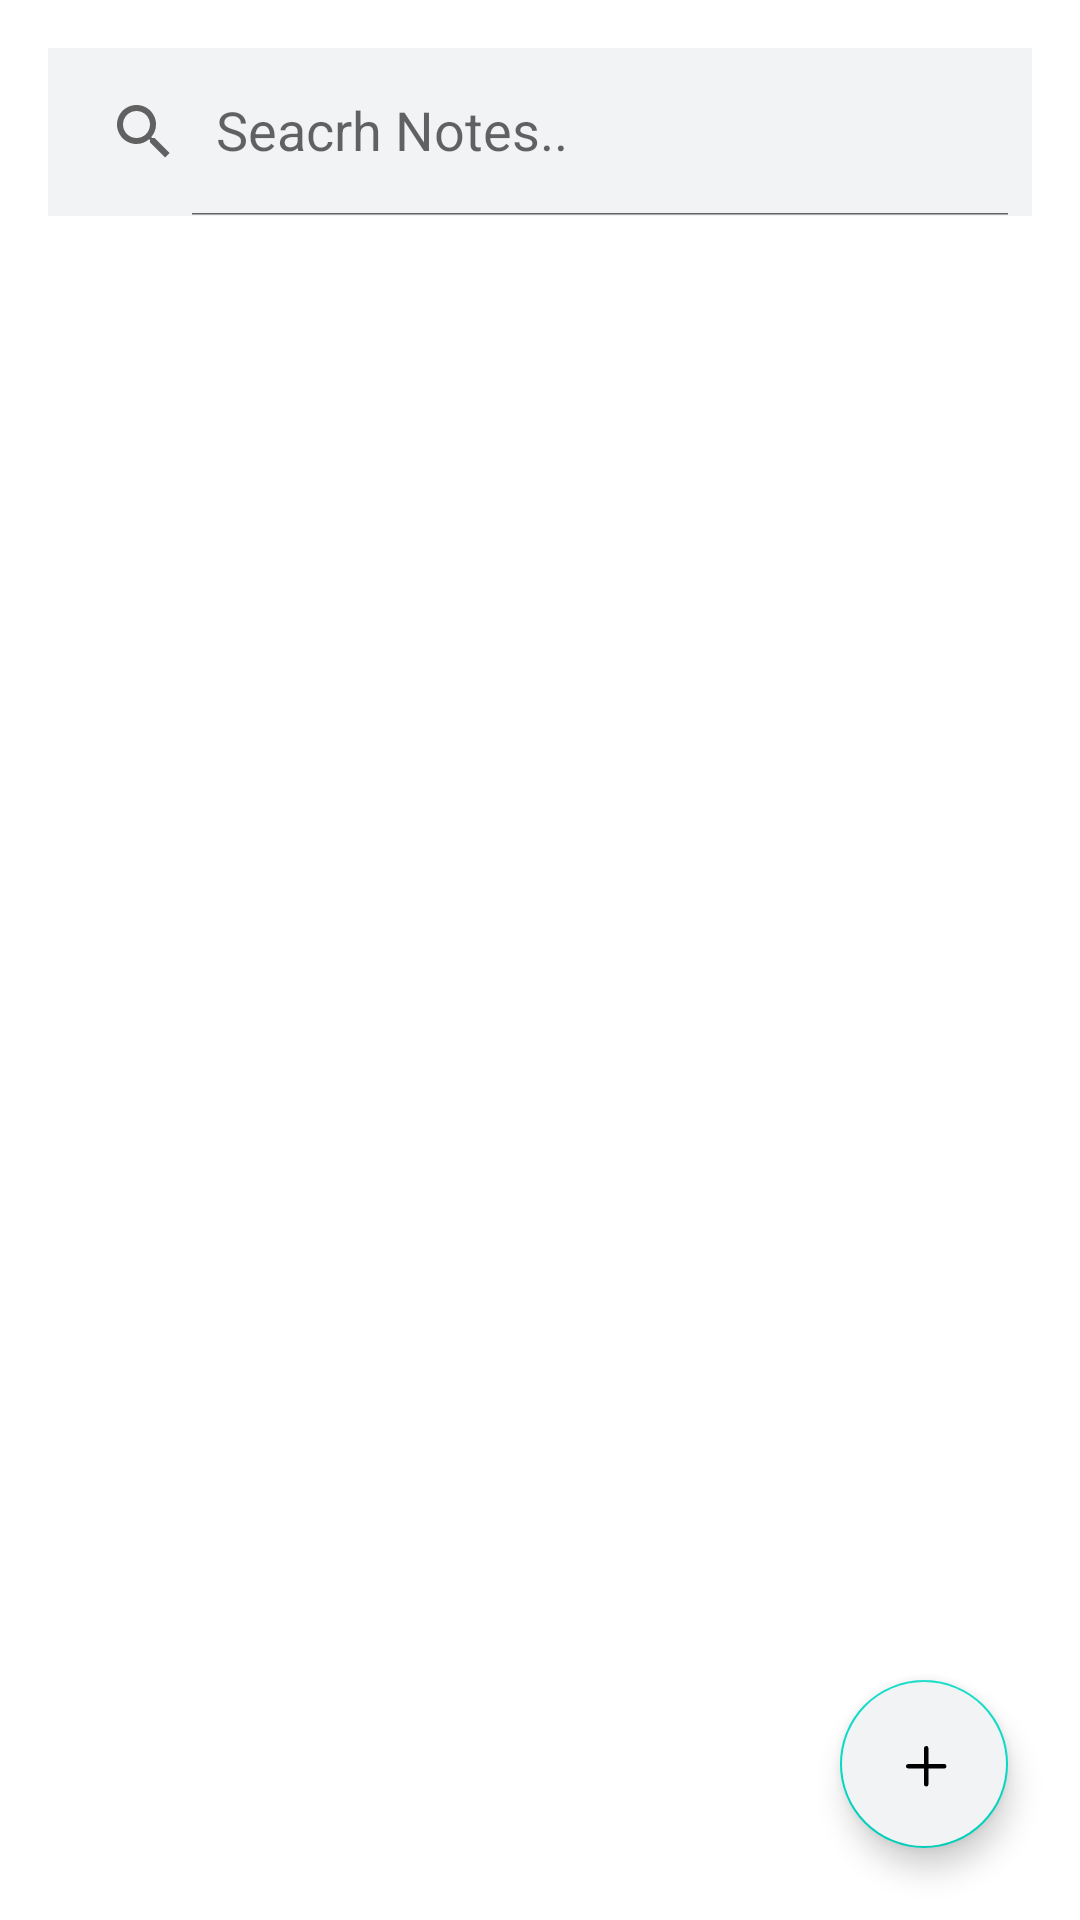

Screen size 1080*1920. Icon name, then its center in pixels as (x=x, y=y):
plus: (x=924, y=1764)
